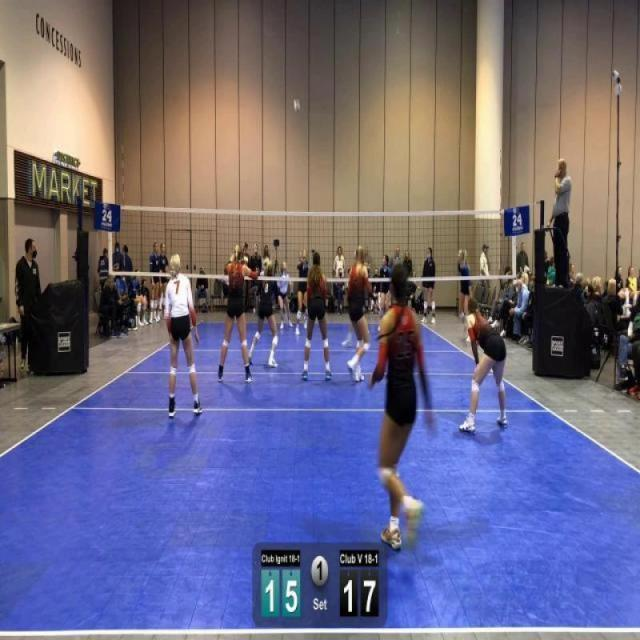volleyball: (292, 96, 302, 115)
